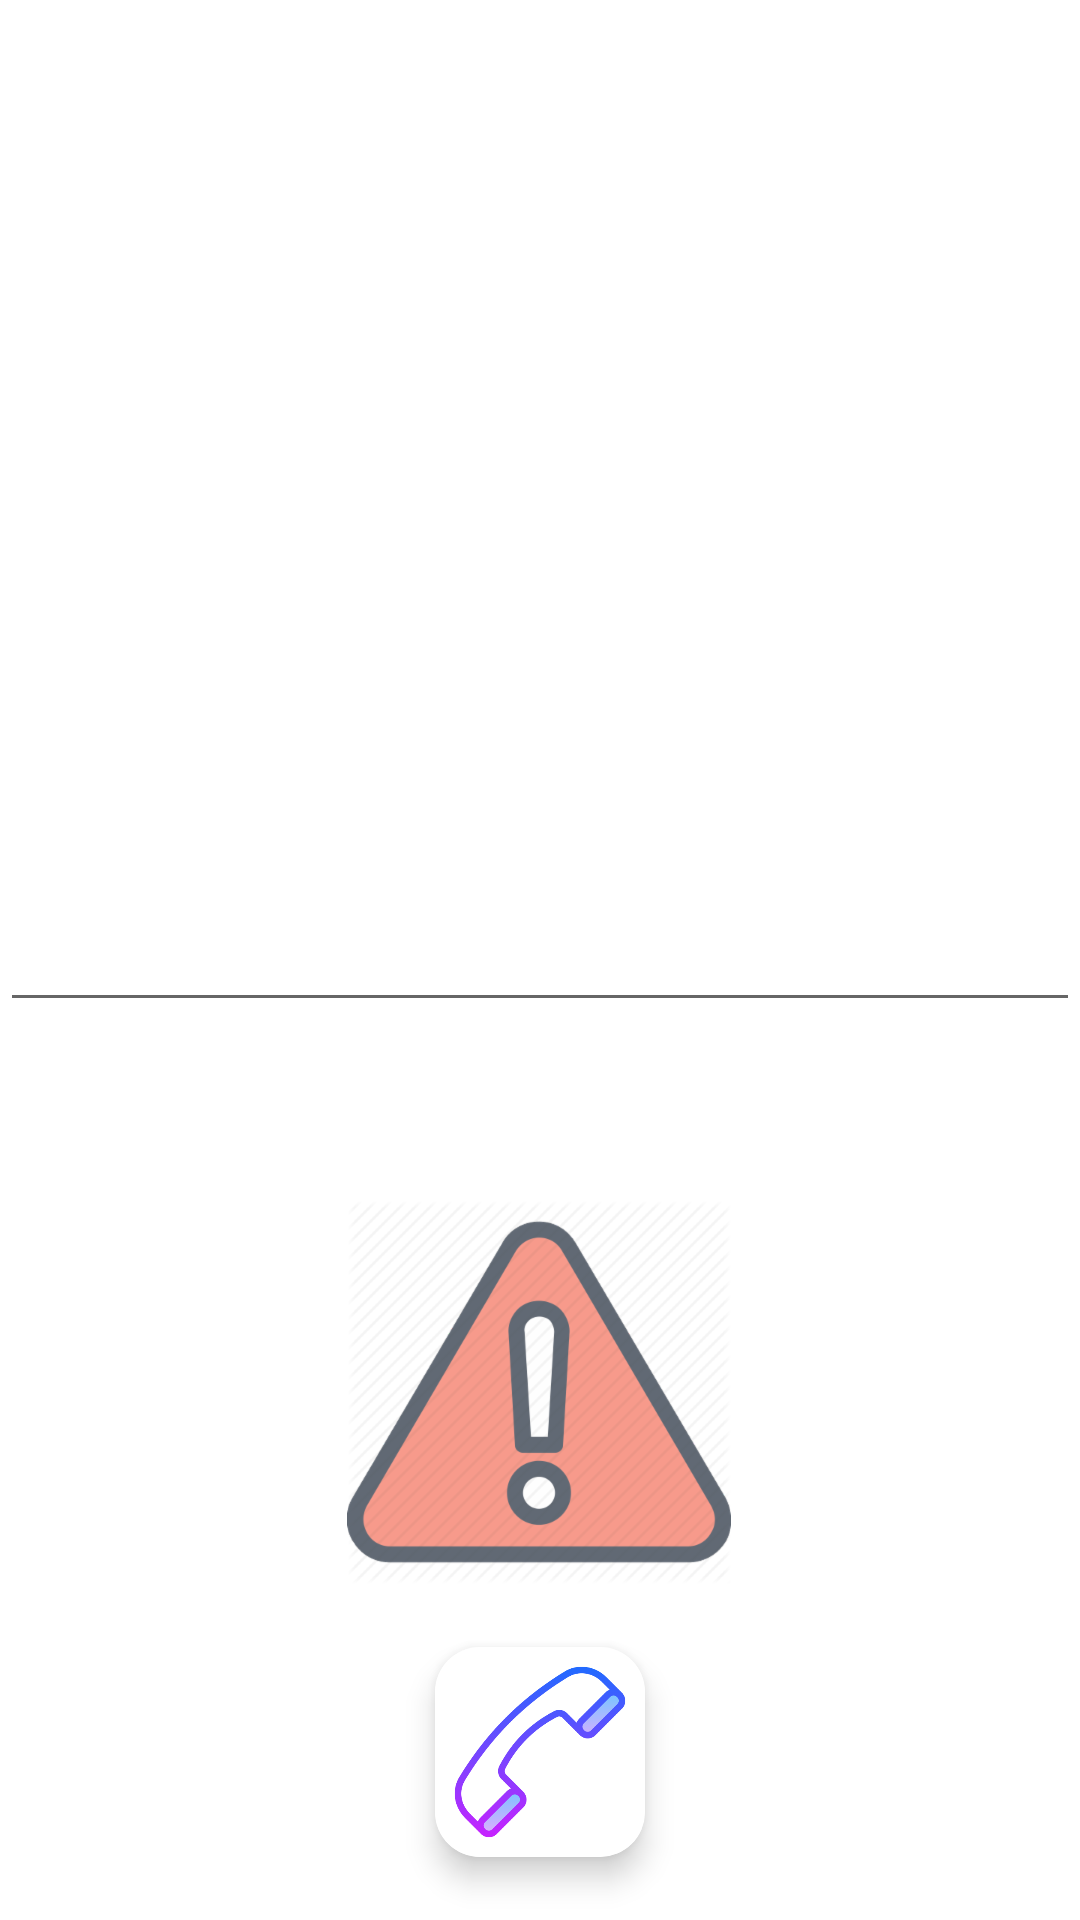

Screen size 1080 x 1920. Icon name, then its center in pixels as [x,y]:
call: [540,1752]
